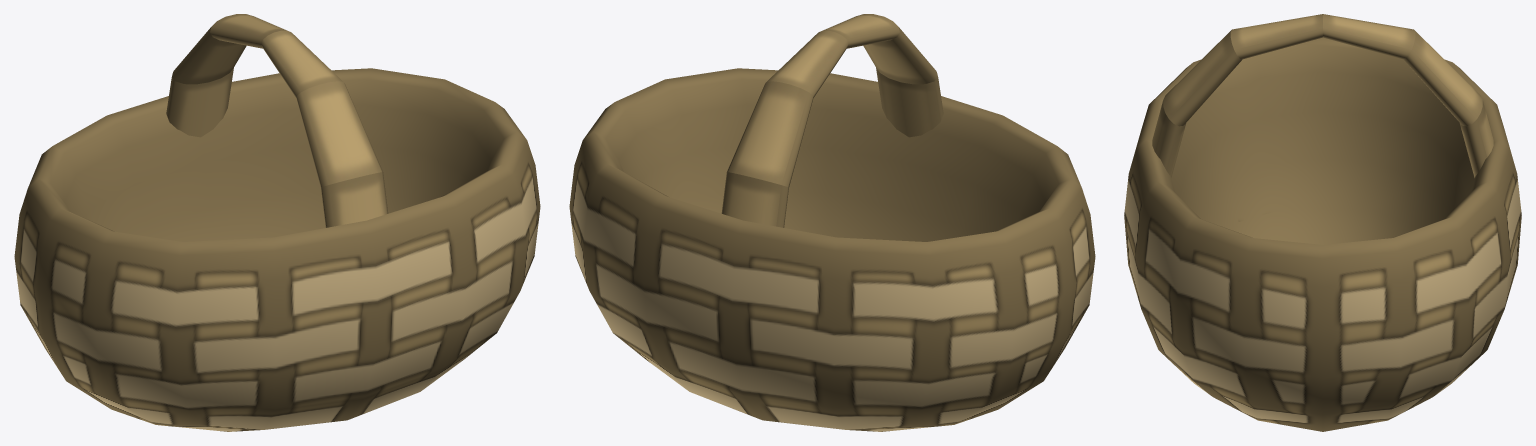
File: Basket.fbx
3 renders of one model, left to right at view 1: azimuth 30°, elevation 25°; view 2: azimuth 150°, elevation 25°; view 3: azimuth 270°, elevation 25°, orthographic.
Parts seen in each view (by area): view 1: Basket, Handle; view 2: Basket, Handle; view 3: Basket, Handle.
Boxes of the visible parts, left/top/right/bottom form: Basket: left=14, top=68, right=540, bottom=431; Handle: left=166, top=14, right=388, bottom=227; Basket: left=569, top=68, right=1095, bottom=431; Handle: left=721, top=14, right=943, bottom=227; Basket: left=1124, top=37, right=1521, bottom=431; Handle: left=1152, top=14, right=1493, bottom=177.
Size of the model in its own units: 1.98 by 1.47 by 1.44.
